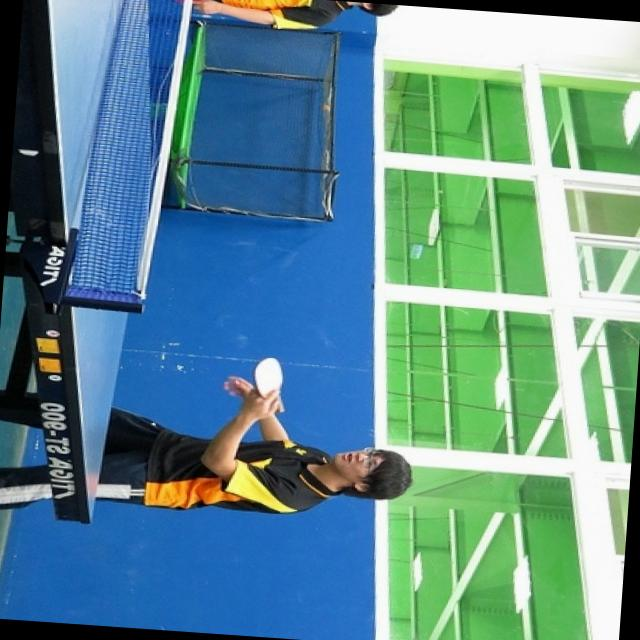TT Net: (44, 0, 220, 324)
TT Racket: (240, 347, 302, 419)
TT Table: (45, 0, 149, 521)
